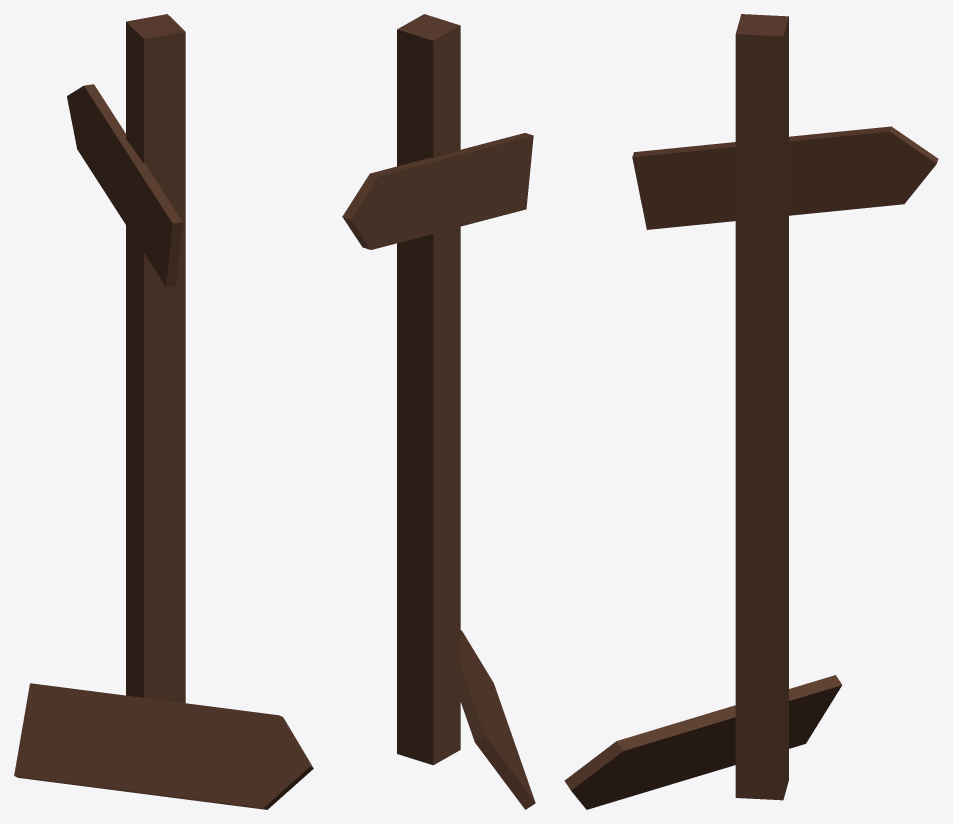
File: Znak 1.fbx
The picture shows the model from 3 angles, left to right: view 1: azimuth 30°, elevation 25°; view 2: azimuth 150°, elevation 25°; view 3: azimuth 270°, elevation 25°; orthographic projection. The views are drawn at different scales.
Visible parts, largest first — view 1: Znak 2; view 2: Znak 2; view 3: Znak 2.
Part boxes in pixels (x1,y1,x2,y2): Znak 2: (14, 14, 313, 809); Znak 2: (342, 14, 535, 809); Znak 2: (564, 14, 938, 809).
Bounding box in the file's own units: 189 × 695 × 303.
